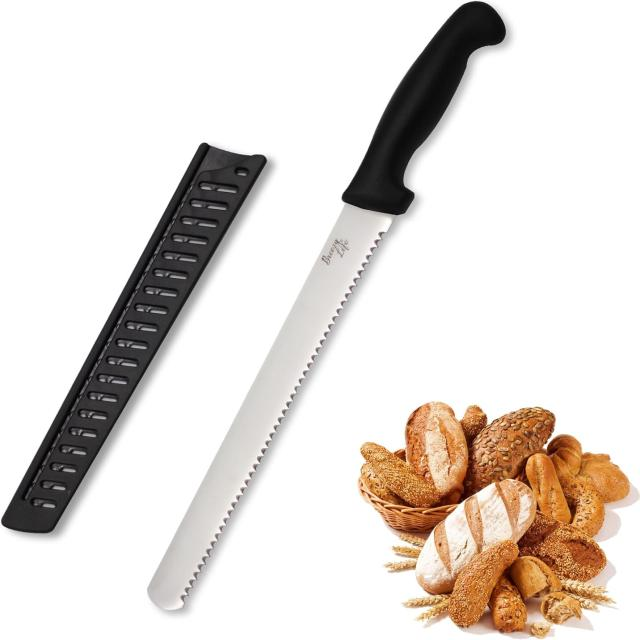Knife: (147, 2, 505, 610)
